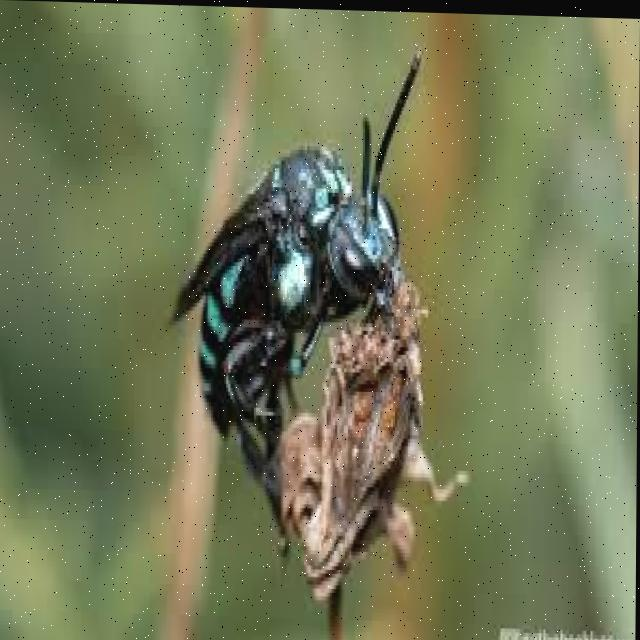Thyreus: (161, 35, 441, 503)
